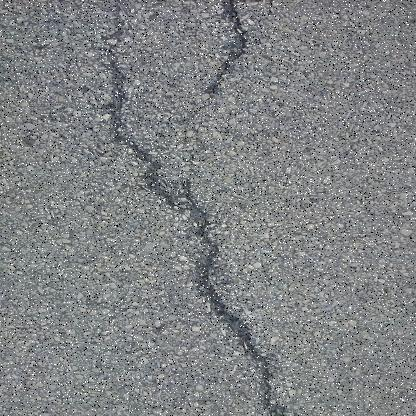Cracks: (88, 14, 316, 415), (202, 0, 263, 100)
